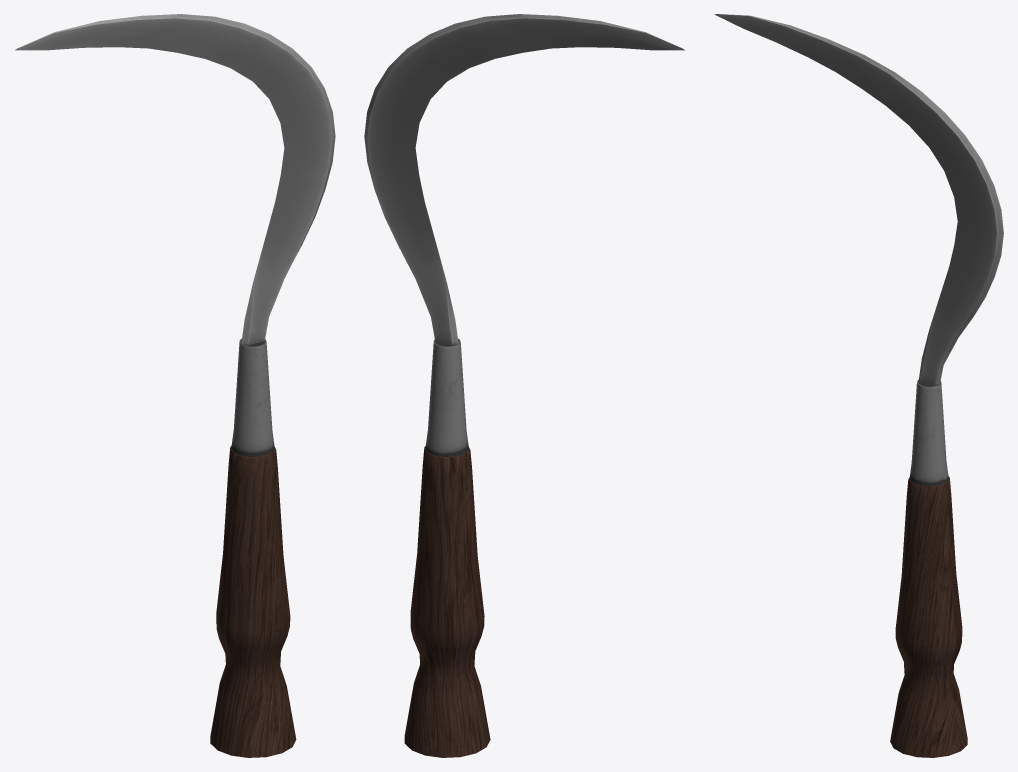
File: celurit.glb
3 views of the same model, side by side, from view 1: azimuth 30°, elevation 25°; view 2: azimuth 150°, elevation 25°; view 3: azimuth 330°, elevation 25° (orthographic). The views are drawn at different scales.
Parts seen in each view (by area): view 1: Plane.002_0; view 2: Plane.002_0; view 3: Plane.002_0.
Boxes of the visible parts, x1,y1,x2,y2 form: Plane.002_0: (15, 14, 335, 757); Plane.002_0: (364, 14, 684, 757); Plane.002_0: (714, 14, 1003, 757).
Size of the model in its own units: 1.65 by 3.72 by 0.3828.
Materials: 1 (1 with a texture image).
